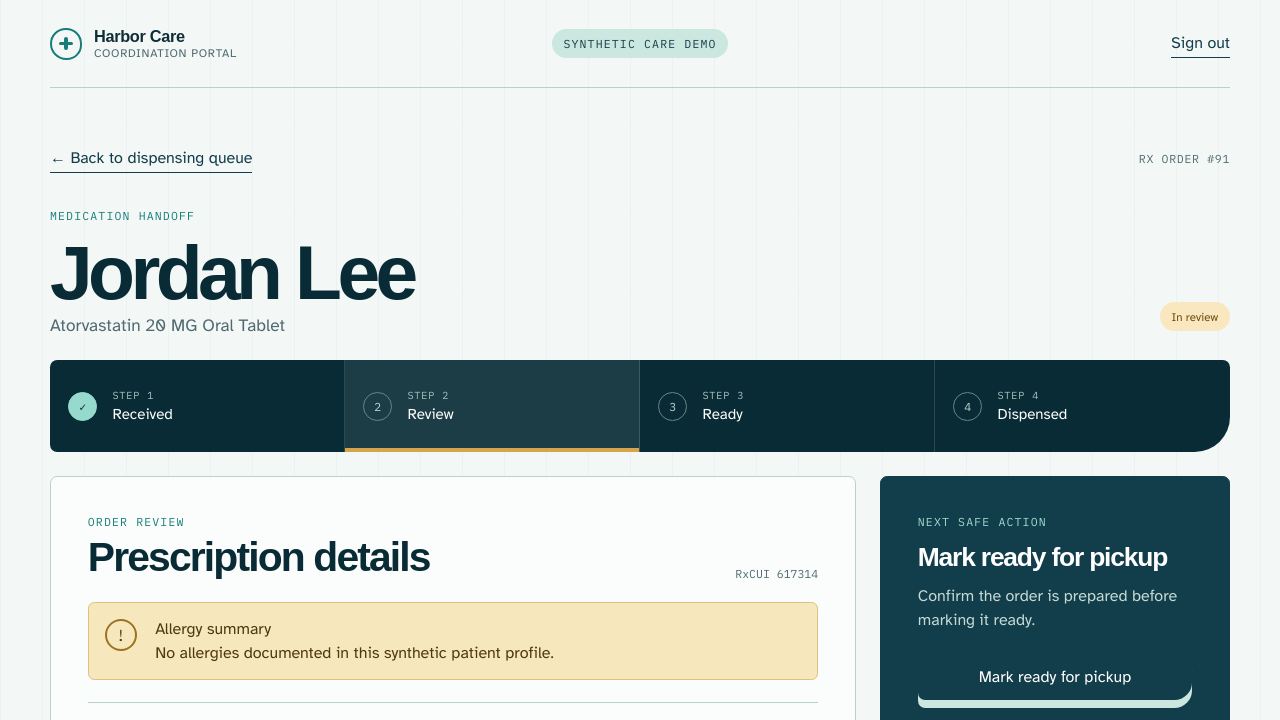
Test: App › refreshes the fulfillment after an optimistic concurrency conflict
Click the button "Mark ready for pickup" at (1055, 677), box [918,654,1192,700]
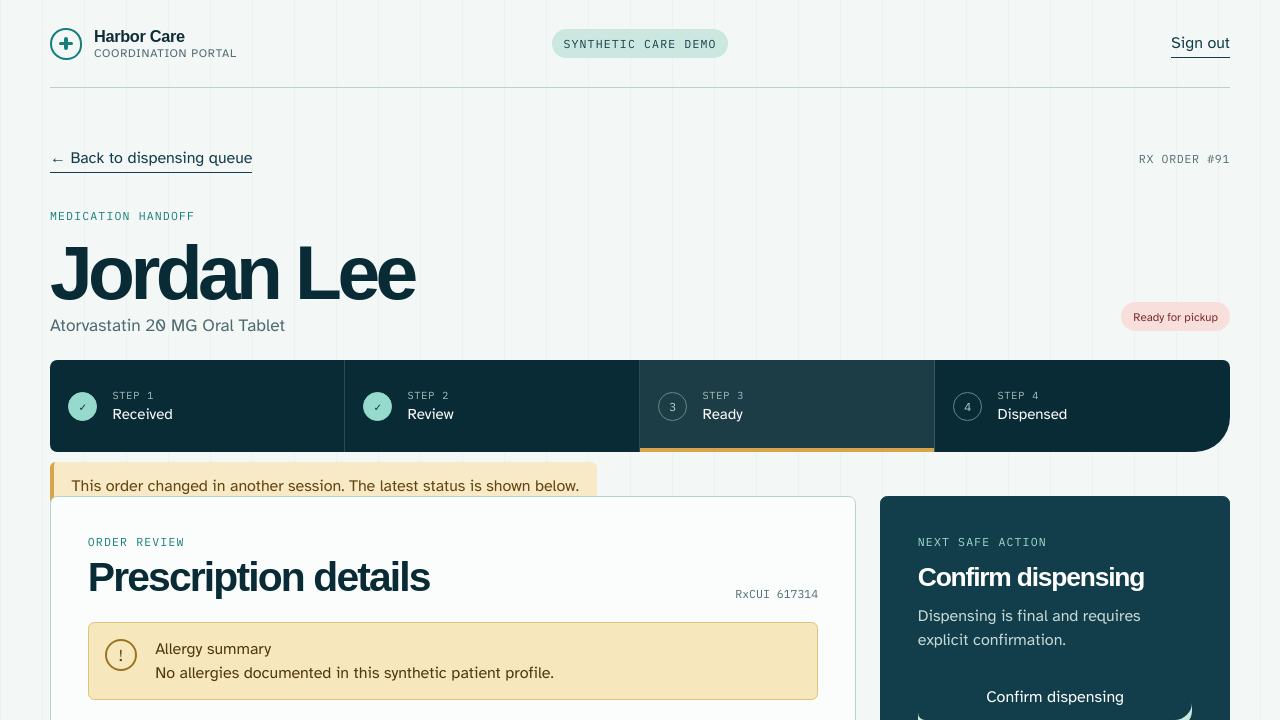
Check: the button "Confirm dispensing" is shown, box [918,674,1192,719]
